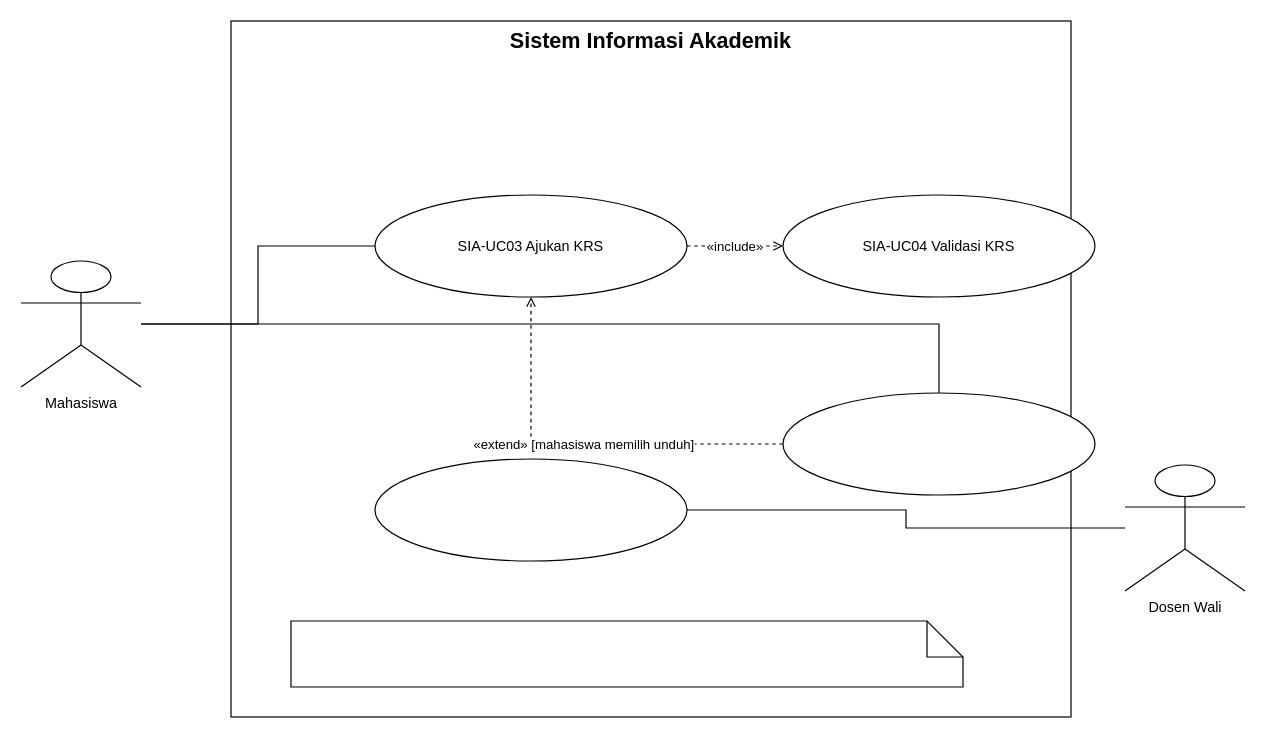
The diagram is 1266 pixels wide and 738 high, and some of its shapes have lost their labels. The shapes that lost their labels are listed below. From the top down, each one's box as (x1, y1, x2, y2) in pixels, then its label:
(782, 392, 1095, 495): SIA-UC05 Unduh Bukti Pengajuan KRS
(374, 458, 687, 561): SIA-UC06 Proses Keputusan KRS
(290, 620, 963, 687): Extension point SIA-UC03: bukti pengajuan tersedia setelah pengajuan tersimpan.
